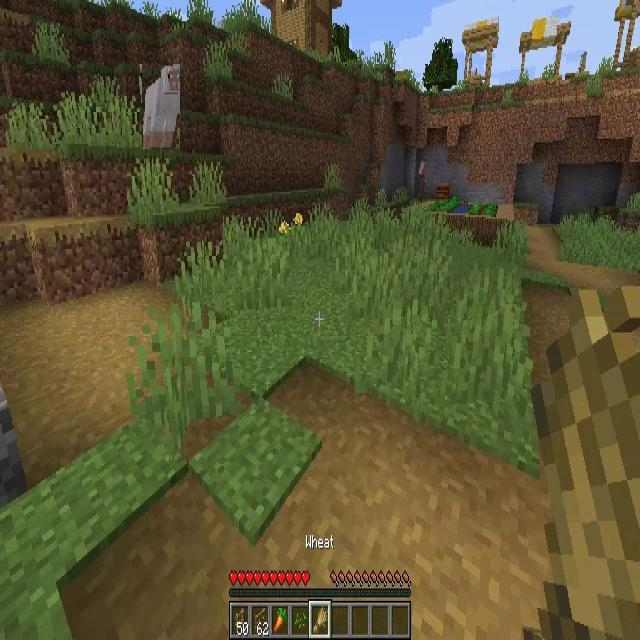sheep: (142, 64, 180, 150)
